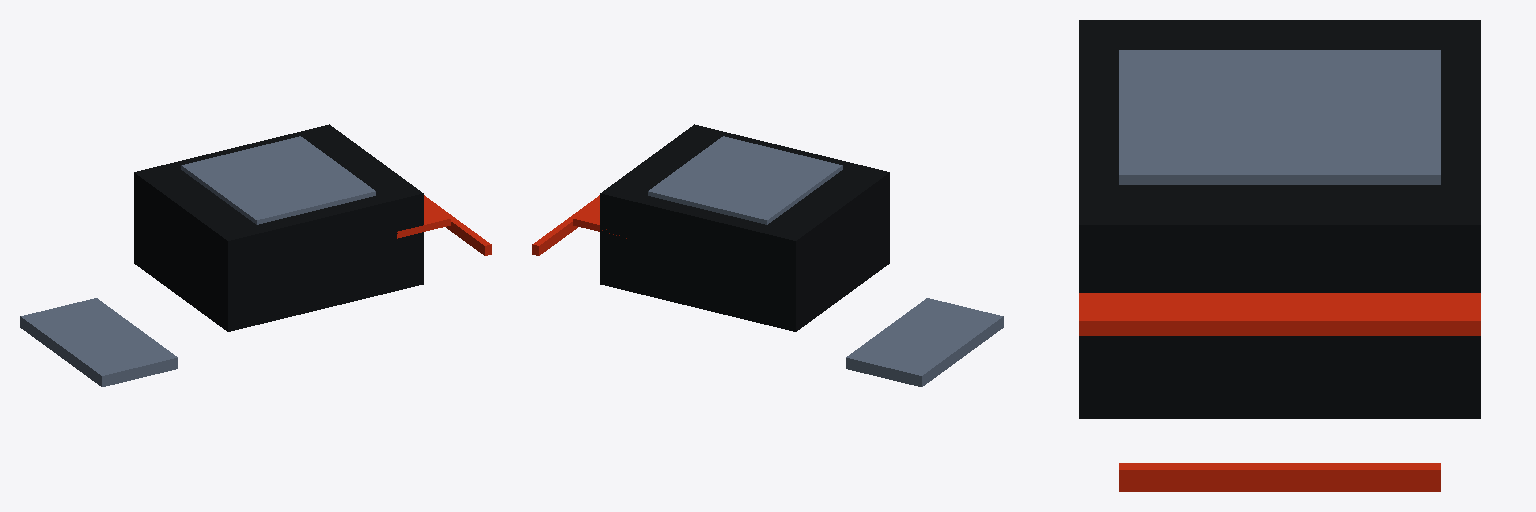
URDF robot description (nested_linear_equipment_rack):
<robot name="nested_linear_equipment_rack">
  <material name="rack_steel">
    <color rgba="0.28 0.3 0.34 1" />
  </material>
  <material name="slide_dark">
    <color rgba="0.16 0.17 0.19 1" />
  </material>
  <material name="equipment">
    <color rgba="0.1 0.11 0.12 1" />
  </material>
  <material name="panel">
    <color rgba="0.42 0.47 0.54 1" />
  </material>
  <material name="accent">
    <color rgba="0.84 0.22 0.1 1" />
  </material>
  <link name="rack_base">
    <inertial>
      <origin xyz="0.41 0 0.46" rpy="0 0 0" />
      <mass value="42" />
      <inertia ixx="4.3078" ixy="0" ixz="0" iyy="5.3158" iyz="0" izz="3.6988" />
    </inertial>
    <visual>
      <geometry>
        <mesh filename="meshes/rack_frame.glb" />
      </geometry>
      <material name="rack_steel" />
    </visual>
    <visual>
      <origin xyz="0.12 0 0.33" rpy="0 0 0" />
      <geometry>
        <box size="0.14 0.26 0.02" />
      </geometry>
      <material name="panel" />
    </visual>
    <collision>
      <origin xyz="0.02 -0.29 0.46" rpy="0 0 0" />
      <geometry>
        <box size="0.04 0.04 0.92" />
      </geometry>
    </collision>
    <collision>
      <origin xyz="0.02 0.29 0.46" rpy="0 0 0" />
      <geometry>
        <box size="0.04 0.04 0.92" />
      </geometry>
    </collision>
    <collision>
      <origin xyz="0.8 -0.29 0.46" rpy="0 0 0" />
      <geometry>
        <box size="0.04 0.04 0.92" />
      </geometry>
    </collision>
    <collision>
      <origin xyz="0.8 0.29 0.46" rpy="0 0 0" />
      <geometry>
        <box size="0.04 0.04 0.92" />
      </geometry>
    </collision>
    <collision>
      <origin xyz="0.006 0 0.46" rpy="0 0 0" />
      <geometry>
        <box size="0.012 0.54 0.72" />
      </geometry>
    </collision>
    <collision>
      <origin xyz="0.1 0 0.17" rpy="0 0 0" />
      <geometry>
        <box size="0.08 0.2 0.34" />
      </geometry>
    </collision>
    <collision>
      <origin xyz="0.12 0 0.33" rpy="0 0 0" />
      <geometry>
        <box size="0.14 0.26 0.02" />
      </geometry>
    </collision>
  </link>
  <link name="outer_slide_stage">
    <inertial>
      <origin xyz="0.33 0 0.05" rpy="0 0 0" />
      <mass value="10.5" />
      <inertia ixx="0.2275" ixy="0" ixz="0" iyy="0.3899" iyz="0" izz="0.5999" />
    </inertial>
    <visual>
      <geometry>
        <mesh filename="meshes/outer_slide_stage.glb" />
      </geometry>
      <material name="slide_dark" />
    </visual>
    <visual>
      <origin xyz="0.666 0 0.05" rpy="0 0 0" />
      <geometry>
        <box size="0.012 0.24 0.018" />
      </geometry>
      <material name="accent" />
    </visual>
    <collision>
      <origin xyz="0.32 0 0.006" rpy="0 0 0" />
      <geometry>
        <box size="0.64 0.42 0.012" />
      </geometry>
    </collision>
    <collision>
      <origin xyz="0.31 -0.221 0.025" rpy="0 0 0" />
      <geometry>
        <box size="0.6 0.018 0.05" />
      </geometry>
    </collision>
    <collision>
      <origin xyz="0.31 0.221 0.025" rpy="0 0 0" />
      <geometry>
        <box size="0.6 0.018 0.05" />
      </geometry>
    </collision>
    <collision>
      <origin xyz="0.007 0 0.025" rpy="0 0 0" />
      <geometry>
        <box size="0.014 0.42 0.05" />
      </geometry>
    </collision>
    <collision>
      <origin xyz="0.08 0 0.012" rpy="0 0 0" />
      <geometry>
        <box size="0.1 0.16 0.024" />
      </geometry>
    </collision>
  </link>
  <link name="inner_slide_stage">
    <inertial>
      <origin xyz="0.27 0 0.1" rpy="0 0 0" />
      <mass value="8" />
      <inertia ixx="0.133333" ixy="0" ixz="0" iyy="0.221067" iyz="0" izz="0.301067" />
    </inertial>
    <visual>
      <geometry>
        <mesh filename="meshes/inner_slide_stage_tray.glb" />
      </geometry>
      <material name="slide_dark" />
    </visual>
    <visual>
      <origin xyz="0.29 0 0.09" rpy="0 0 0" />
      <geometry>
        <box size="0.36 0.3 0.16" />
      </geometry>
      <material name="equipment" />
    </visual>
    <visual>
      <origin xyz="0.29 0 0.174" rpy="0 0 0" />
      <geometry>
        <box size="0.22 0.24 0.008" />
      </geometry>
      <material name="panel" />
    </visual>
    <visual>
      <origin xyz="0.47 0 0.108" rpy="0 0 0" />
      <geometry>
        <box size="0.1 0.3 0.012" />
      </geometry>
      <material name="accent" />
    </visual>
    <collision>
      <origin xyz="0.26 0 0.005" rpy="0 0 0" />
      <geometry>
        <box size="0.52 0.34 0.01" />
      </geometry>
    </collision>
    <collision>
      <origin xyz="0.29 0 0.09" rpy="0 0 0" />
      <geometry>
        <box size="0.34 0.28 0.16" />
      </geometry>
    </collision>
    <collision>
      <origin xyz="0.006 0 0.0225" rpy="0 0 0" />
      <geometry>
        <box size="0.012 0.34 0.045" />
      </geometry>
    </collision>
  </link>
  <joint name="rack_to_outer_stage" type="prismatic">
    <origin xyz="0.1 0 0.34" rpy="0 0 0" />
    <parent link="rack_base" />
    <child link="outer_slide_stage" />
    <axis xyz="1 0 0" />
    <limit effort="400" velocity="0.4" lower="0" upper="0.3" />
  </joint>
  <joint name="outer_stage_to_inner_stage" type="prismatic">
    <origin xyz="0.06 0 0.024" rpy="0 0 0" />
    <parent link="outer_slide_stage" />
    <child link="inner_slide_stage" />
    <axis xyz="1 0 0" />
    <limit effort="250" velocity="0.35" lower="0" upper="0.24" />
  </joint>
</robot>

--- Facts derived from the render (not from the file) ---
The picture shows the robot from 3 angles, left to right: view 1: azimuth 30°, elevation 25°; view 2: azimuth 150°, elevation 25°; view 3: azimuth 270°, elevation 25°; orthographic projection.
Model nested_linear_equipment_rack with 3 links and 2 joints (2 prismatic), rooted at rack_base, posed every joint at zero.
Visible links, largest first — view 1: inner_slide_stage, rack_base, outer_slide_stage; view 2: inner_slide_stage, rack_base, outer_slide_stage; view 3: inner_slide_stage, outer_slide_stage.
Boxes of the visible links, x1,y1,x2,y2 form: inner_slide_stage: (134,124,450,331); rack_base: (20,298,177,386); outer_slide_stage: (424,195,491,255); inner_slide_stage: (573,124,889,331); rack_base: (846,298,1003,386); outer_slide_stage: (532,195,599,255); inner_slide_stage: (1079,20,1480,418); outer_slide_stage: (1119,463,1440,491).
Bounding box of the posed robot: 0.722 × 0.3 × 0.222 m (x, y, z).
Meshes: 3 distinct files referenced, 0 mesh visuals loaded (none loaded); not drawn: 3 (reference not matched to a file when rendering).
